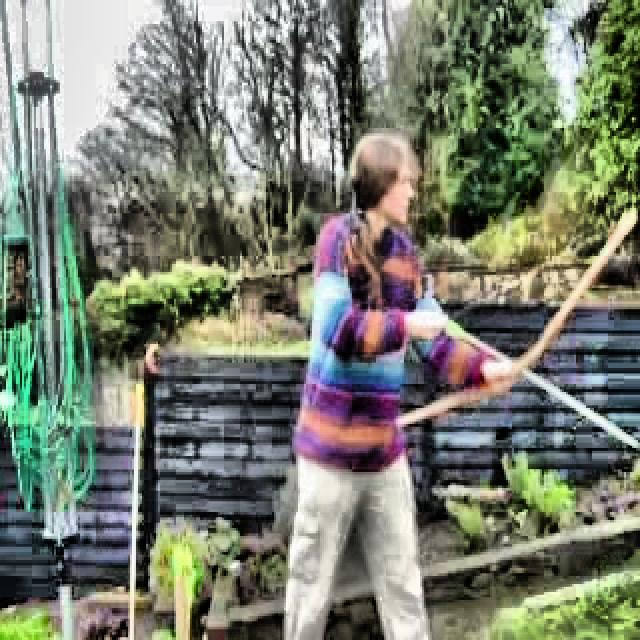I: (285, 96, 515, 640)
